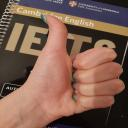ThumbsUp: (22, 10, 126, 120)
